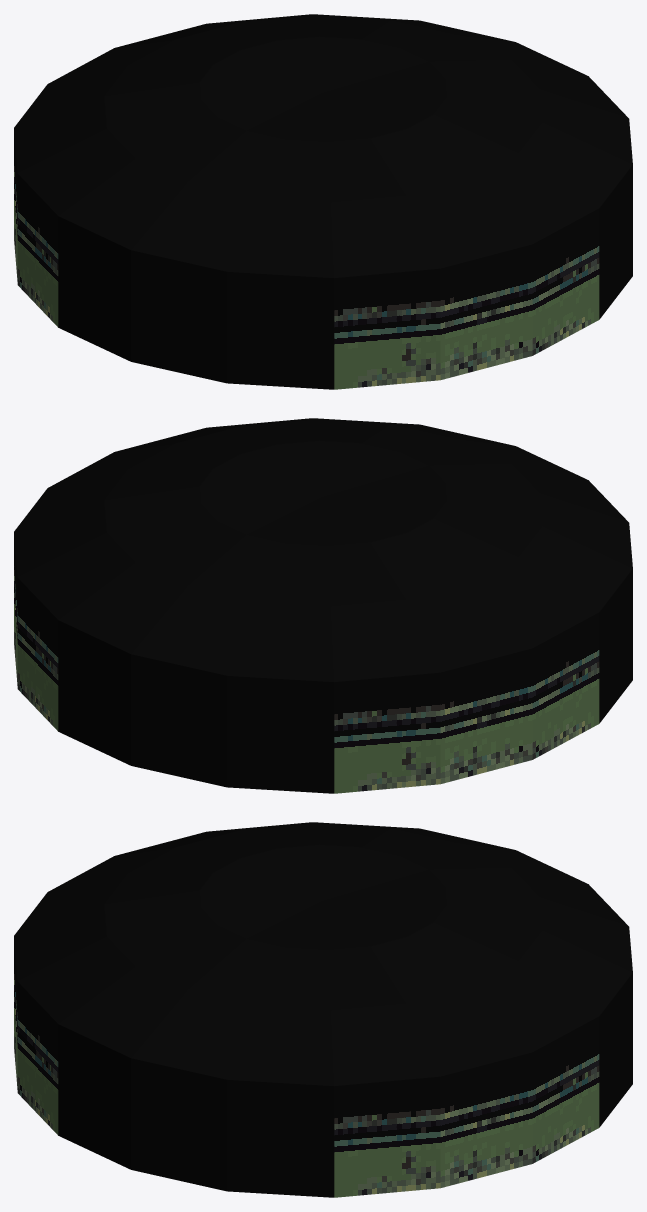
The picture shows the model from 3 angles, top to bottom: view 1: azimuth 30°, elevation 25°; view 2: azimuth 150°, elevation 25°; view 3: azimuth 270°, elevation 25°; orthographic projection.
Visible parts, largest first — view 1: mesh00; view 2: mesh00; view 3: mesh00.
Part boxes in pixels (left/top/right/bottom): mesh00: left=14, top=14, right=632, bottom=389; mesh00: left=14, top=418, right=632, bottom=793; mesh00: left=14, top=822, right=632, bottom=1197.
Size of the model in its own units: 105936 by 34263 by 104970.
